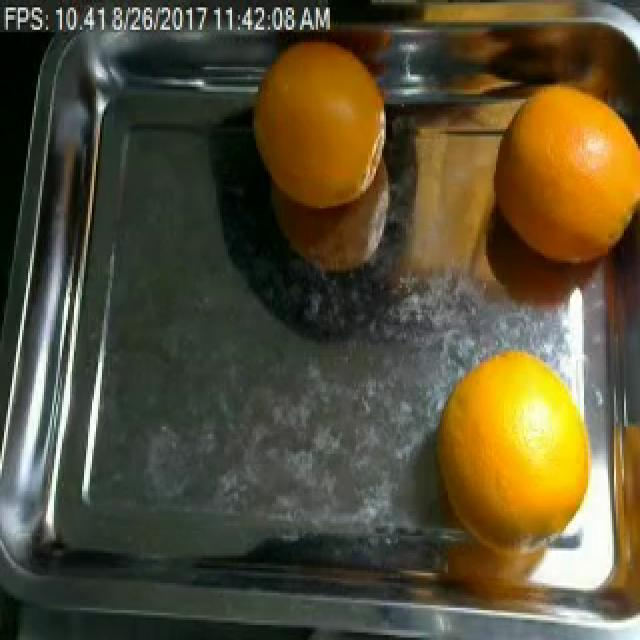Fruit: (414, 330, 588, 541), (236, 15, 390, 236)
